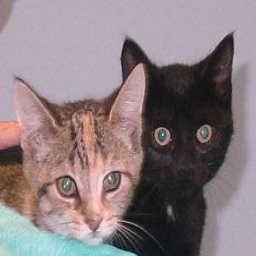cat: (16, 34, 234, 256)
